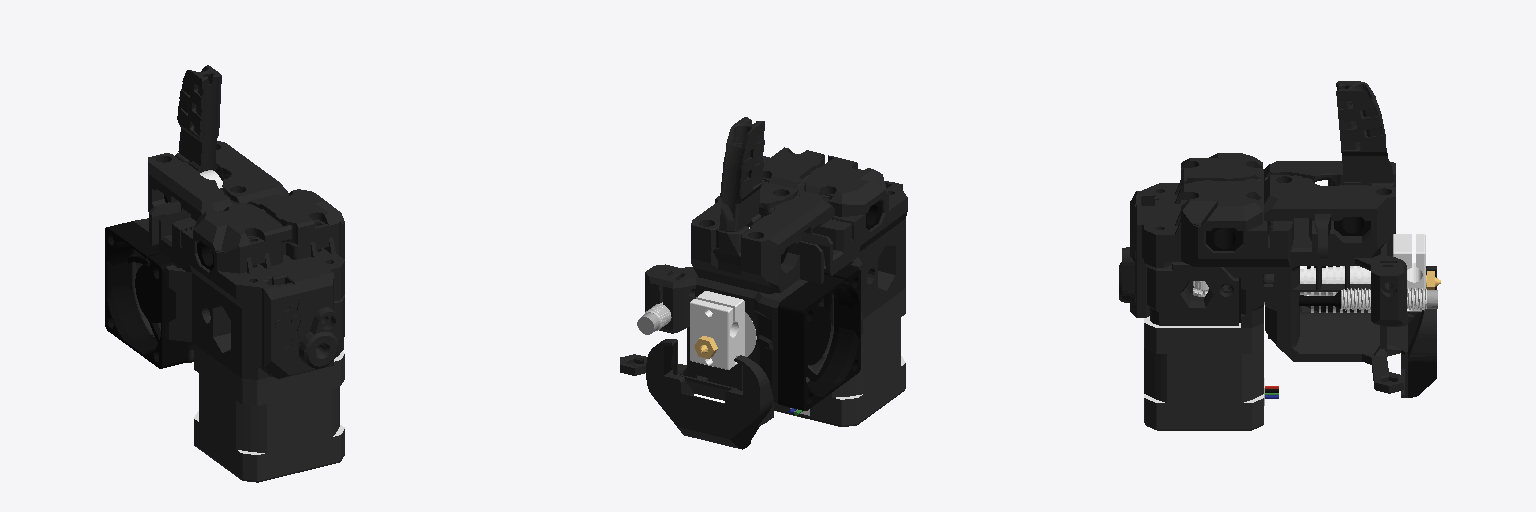
The model's file is bear21_mk3s_simulator_e-axis_w-hotend-fan.obj.
3 renders of one model, left to right at view 1: azimuth 30°, elevation 25°; view 2: azimuth 150°, elevation 25°; view 3: azimuth 270°, elevation 25°, orthographic.
Parts seen in each view (by area): view 1: nema17_ldo_cool_power v1:1, x_carriage_back_mk3s v2:1, x_carriage:1, sunon_mf4010_no_blade v2:1, fs_cover v2:2, body:1, cable_guide_back_b:1, cable_guide_back_a:1; view 2: x_carriage_back_mk3s v2:1, sunon_mf4010_no_blade v2:1, x_carriage:1, body:1, nozzle_fan_duct:1, nema17_ldo_cool_power v1:1, block:1, cover:1, cable_guide_back_b:1, cable_guide_back_a:1, pinda v1:2; view 3: nema17_ldo_cool_power v1:1, x_carriage_back_mk3s v2:1, x_carriage:1, body:1, cover:1, extruder_idler_bondtech:1, nozzle_fan_duct:1, cable_guide_back_b:1, cable_guide_back_a:1, fs_cover v2:2, pinda v1:2, block:1 (+3 smaller).
Boxes of the visible parts, x1=… form: nema17_ldo_cool_power v1:1: x1=194, y1=344, x2=344, y2=482; x_carriage_back_mk3s v2:1: x1=148, y1=141, x2=344, y2=259; x_carriage:1: x1=148, y1=153, x2=344, y2=310; sunon_mf4010_no_blade v2:1: x1=105, y1=221, x2=187, y2=368; fs_cover v2:2: x1=262, y1=271, x2=338, y2=378; body:1: x1=132, y1=218, x2=344, y2=379; cable_guide_back_b:1: x1=178, y1=65, x2=221, y2=126; cable_guide_back_a:1: x1=177, y1=111, x2=219, y2=172; x_carriage_back_mk3s v2:1: x1=691, y1=147, x2=888, y2=261; sunon_mf4010_no_blade v2:1: x1=778, y1=266, x2=860, y2=410; x_carriage:1: x1=691, y1=184, x2=907, y2=293; body:1: x1=645, y1=219, x2=905, y2=349; nozzle_fan_duct:1: x1=646, y1=339, x2=773, y2=449; nema17_ldo_cool_power v1:1: x1=774, y1=288, x2=905, y2=426; block:1: x1=690, y1=291, x2=744, y2=369; cover:1: x1=620, y1=305, x2=833, y2=404; cable_guide_back_b:1: x1=722, y1=117, x2=764, y2=186; cable_guide_back_a:1: x1=719, y1=172, x2=762, y2=231; pinda v1:2: x1=637, y1=302, x2=671, y2=334; nema17_ldo_cool_power v1:1: x1=1144, y1=316, x2=1278, y2=430; x_carriage_back_mk3s v2:1: x1=1181, y1=153, x2=1395, y2=230; x_carriage:1: x1=1142, y1=169, x2=1395, y2=266; body:1: x1=1142, y1=230, x2=1406, y2=327; cover:1: x1=1265, y1=297, x2=1407, y2=393; extruder_idler_bondtech:1: x1=1147, y1=262, x2=1238, y2=325; nozzle_fan_duct:1: x1=1401, y1=266, x2=1436, y2=397; cable_guide_back_b:1: x1=1336, y1=81, x2=1384, y2=139; cable_guide_back_a:1: x1=1340, y1=131, x2=1393, y2=184; fs_cover v2:2: x1=1119, y1=191, x2=1141, y2=317; pinda v1:2: x1=1299, y1=288, x2=1437, y2=310; block:1: x1=1393, y1=234, x2=1425, y2=311.
Bounding box in the file's own units: 7.57 × 12.54 × 11.3.